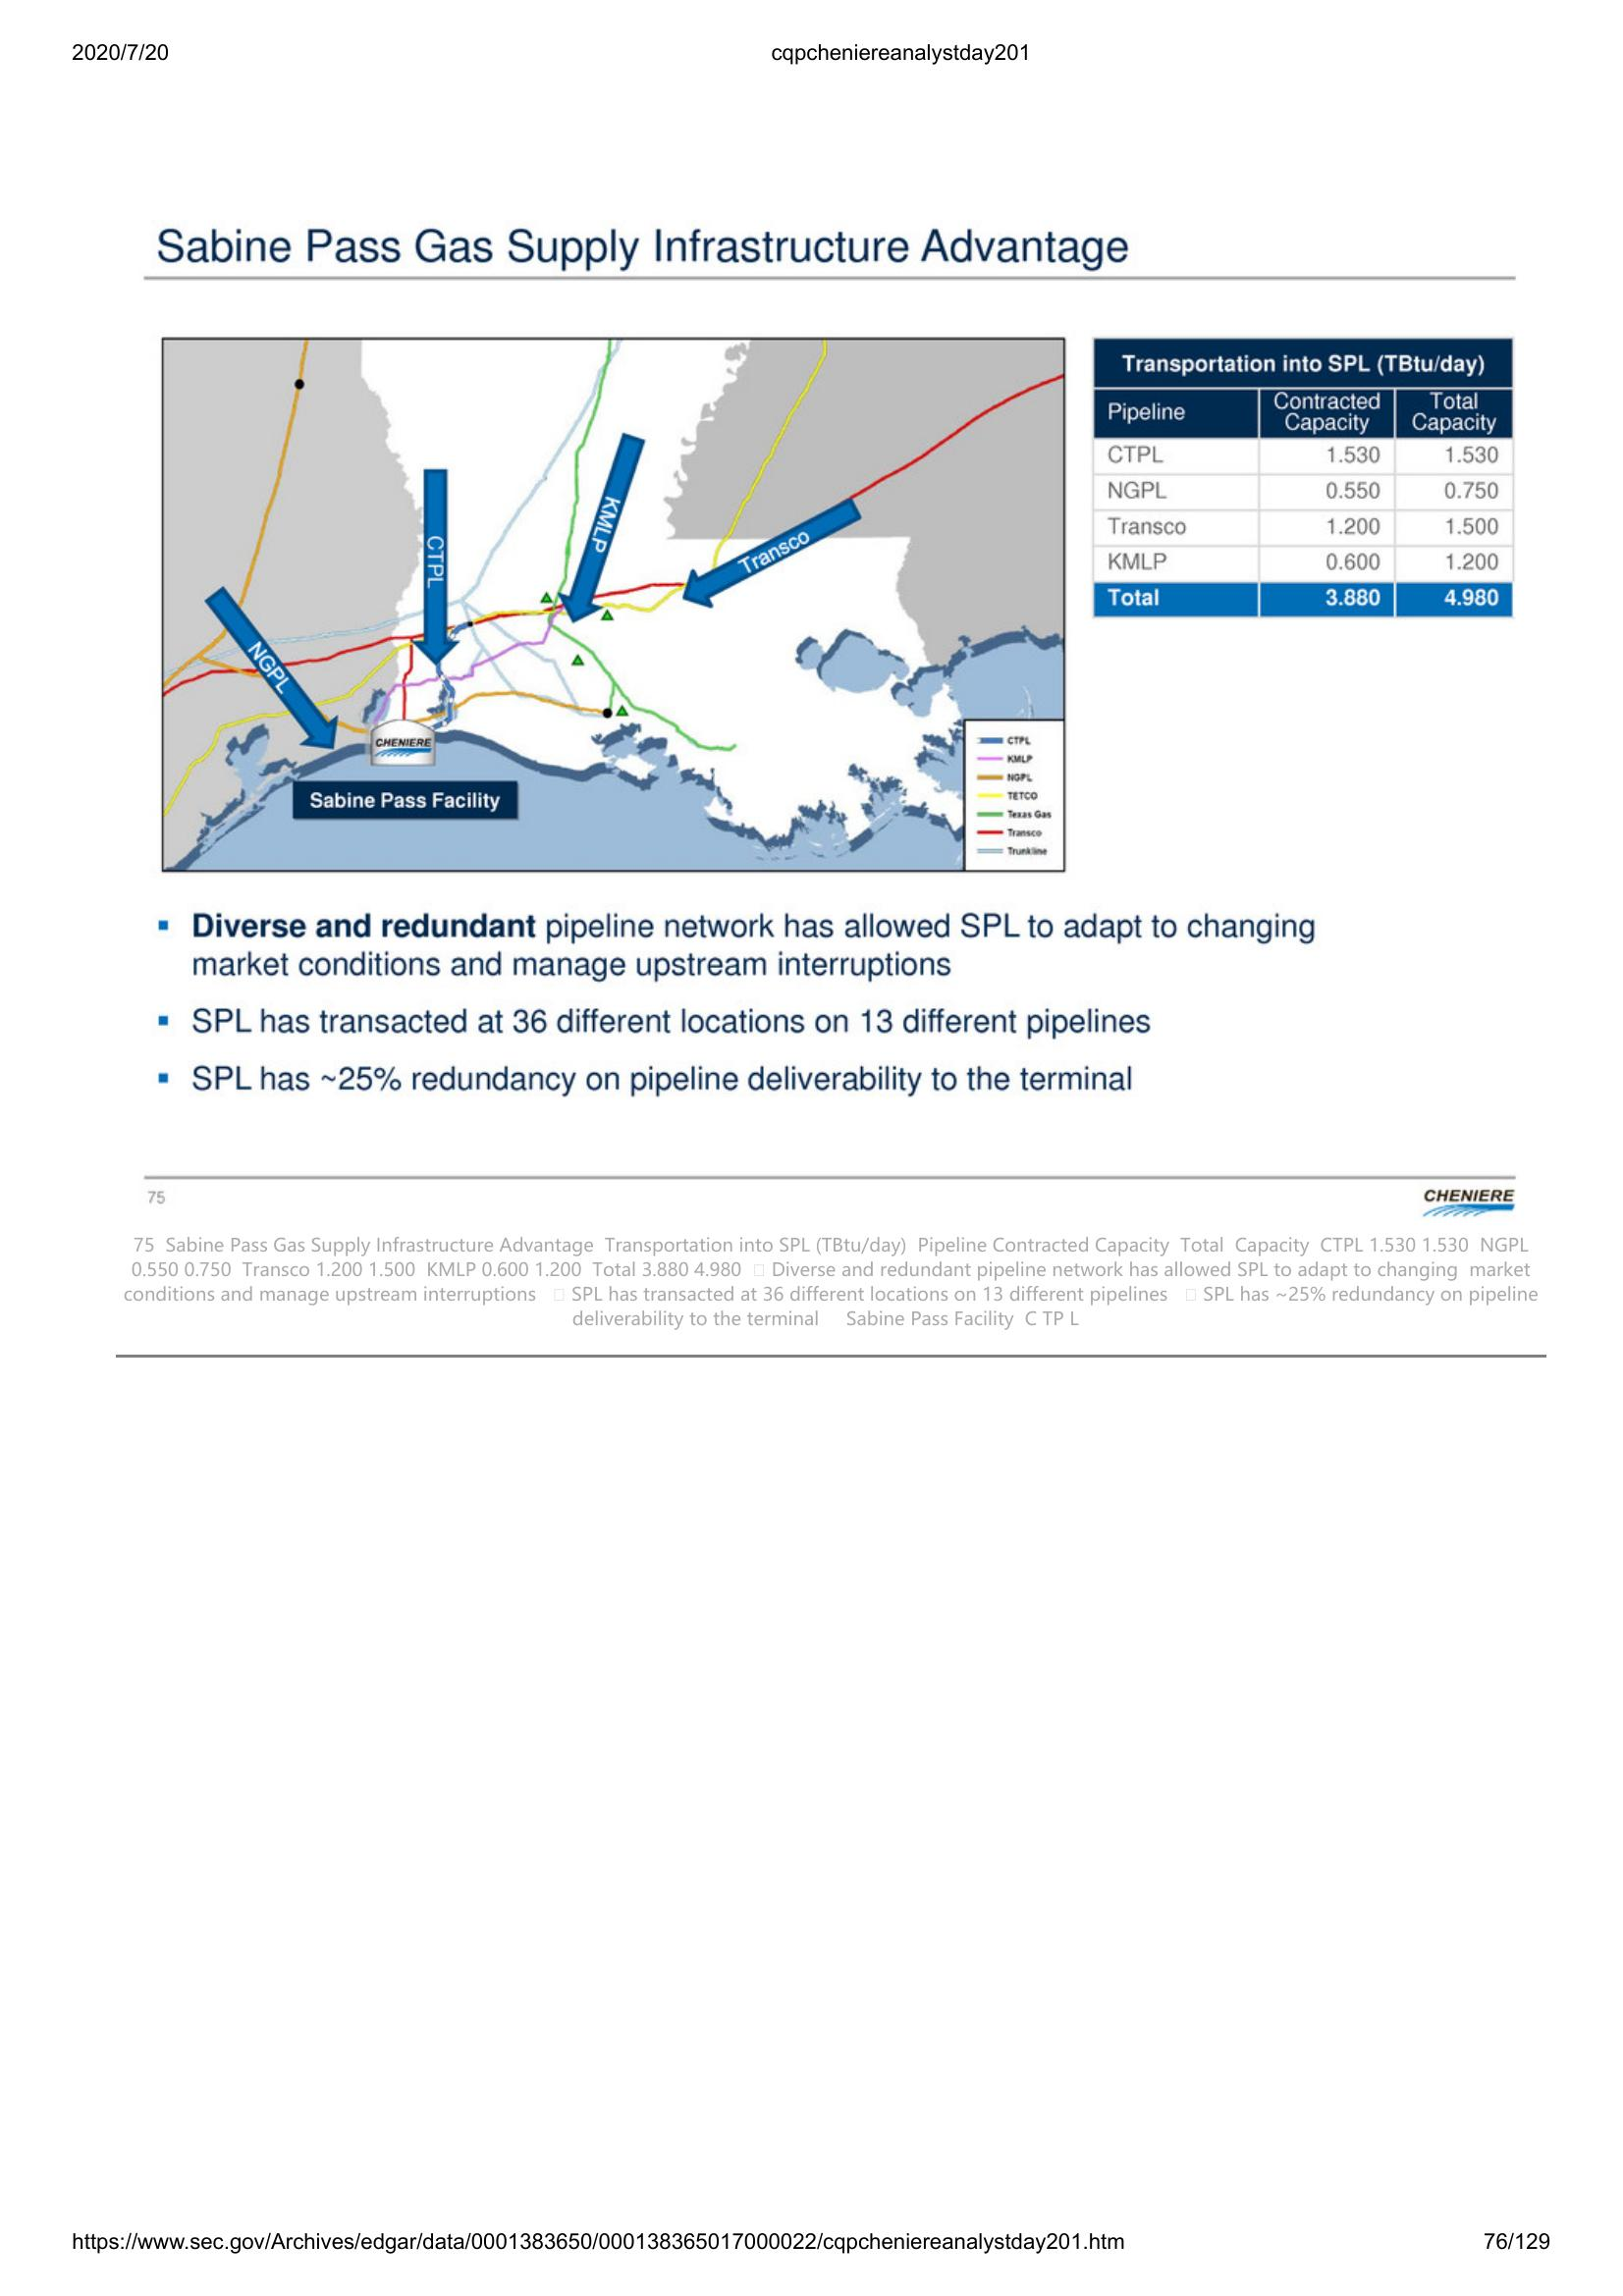table: (1080, 334, 1521, 623)
